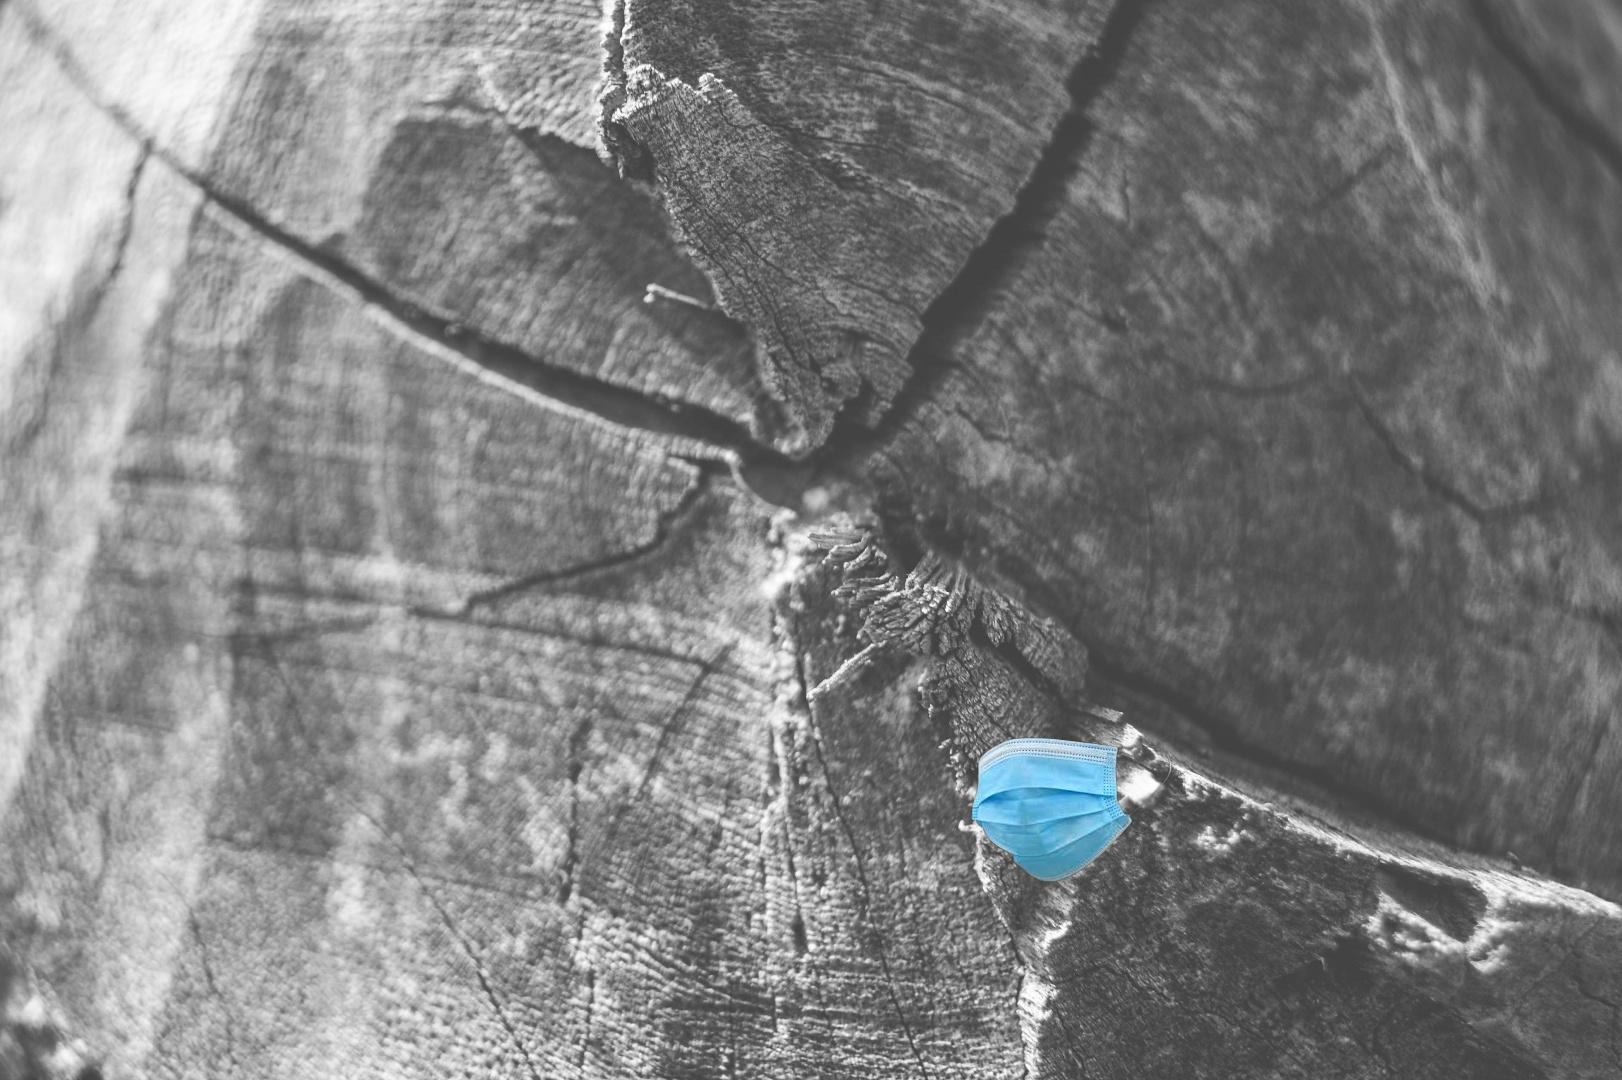trash: (969, 735, 1175, 885)
